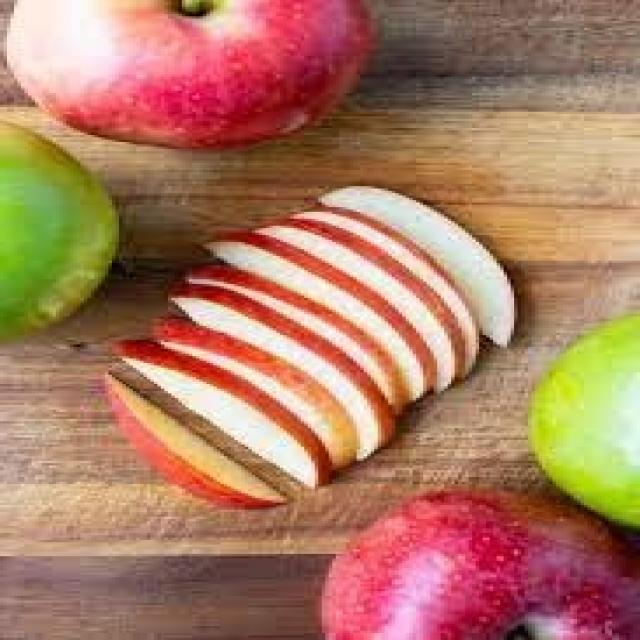Apple: (143, 286, 413, 475), (196, 219, 472, 398), (318, 160, 532, 360), (105, 331, 357, 491), (98, 368, 311, 519)
